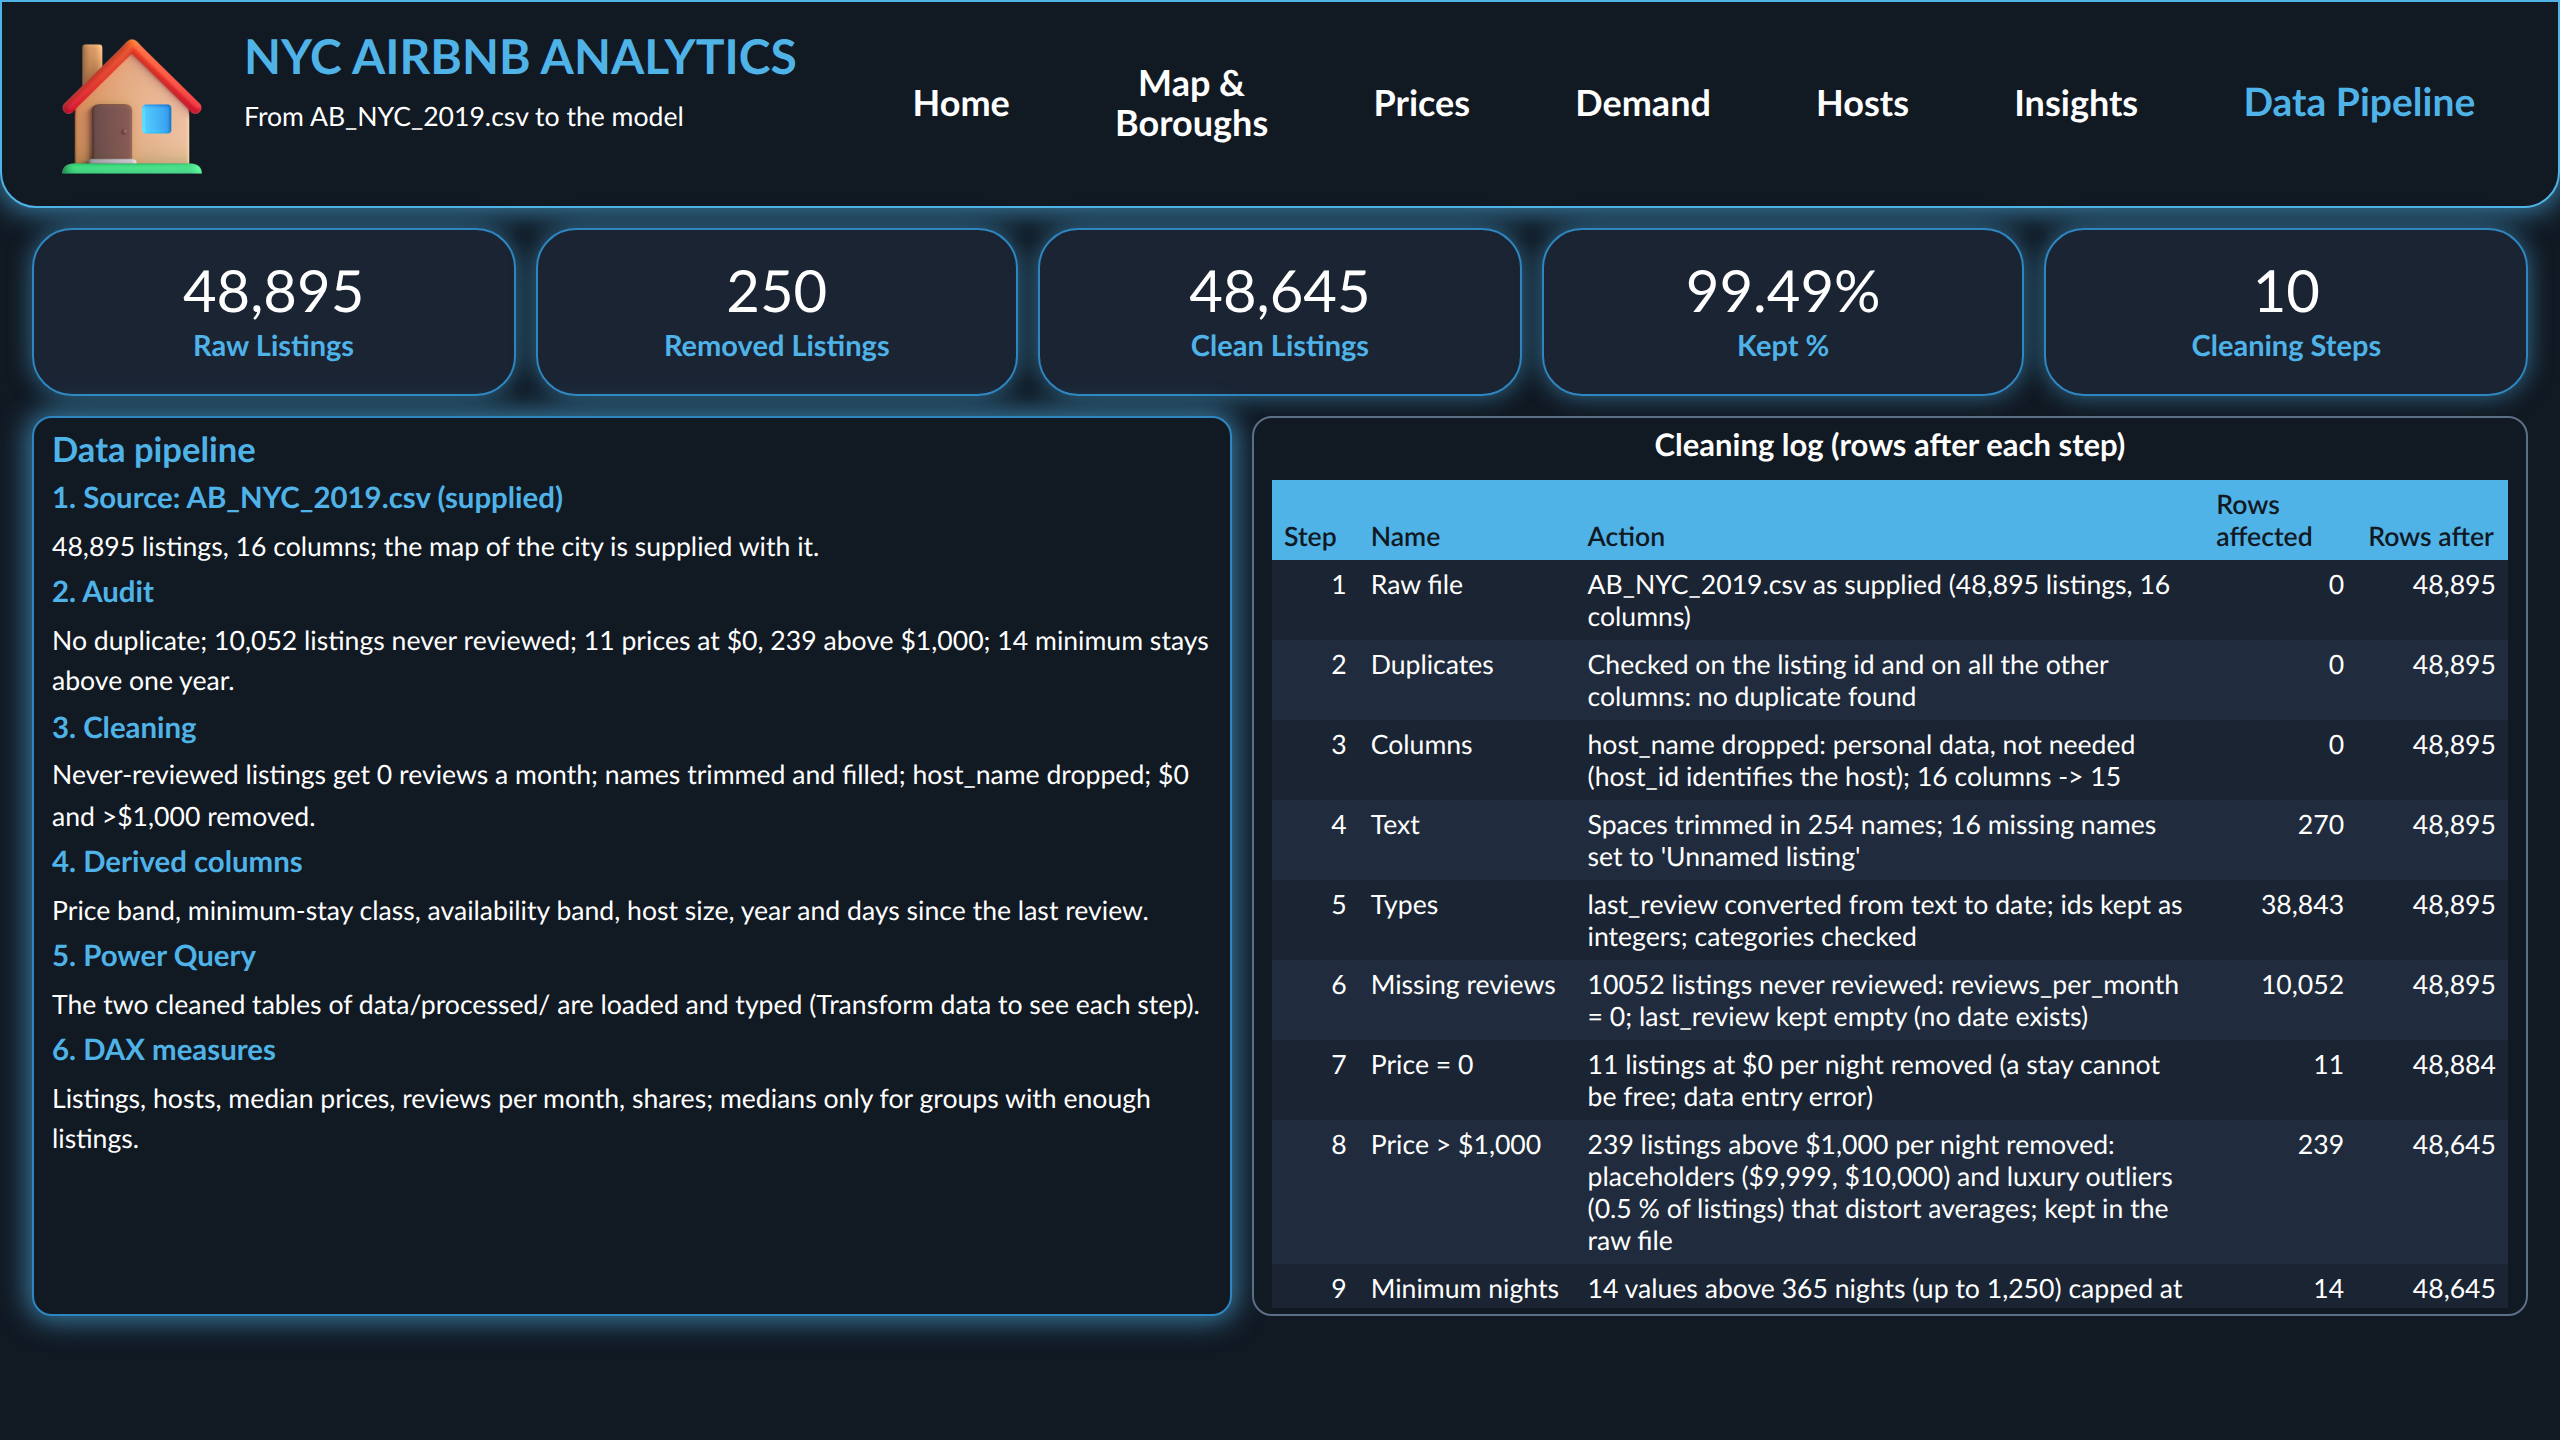

The dashboard page shown, as its layout file describes it:
{"tool":"powerbi","page":{"name":"Data Pipeline","canvas":[1280,720],"ordinal":6},"visuals":[{"type":"shape","box":[0,0,1280,104],"z":1000},{"type":"image","box":[18,12,96,80],"z":2000},{"type":"textbox","box":[122,14,300,76],"z":3000},{"type":"pageNavigator","box":[416,16,848,64],"z":4000},{"type":"card","title":"Raw Listings","fields":{"Values":["Cleaning Log.Raw Listings"]},"box":[16,114,241.6,84],"z":5000},{"type":"card","title":"Removed Listings","fields":{"Values":["Cleaning Log.Removed Listings"]},"box":[267.6,114,241.6,84],"z":6000},{"type":"card","title":"Clean Listings","fields":{"Values":["Cleaning Log.Clean Listings"]},"box":[519.2,114,241.6,84],"z":7000},{"type":"card","title":"Kept %","fields":{"Values":["Cleaning Log.Kept %"]},"box":[770.8,114,241.6,84],"z":8000},{"type":"card","title":"Cleaning Steps","fields":{"Values":["Cleaning Log.Cleaning Steps"]},"box":[1022.4,114,241.6,84],"z":9000},{"type":"shape","box":[16,208,600,450],"z":10000},{"type":"textbox","box":[48,240,560,384],"z":11000},{"type":"shape","box":[626,208,638,450],"z":12000},{"type":"tableEx","title":"Cleaning log (rows after each step)","fields":{"Values":["Cleaning Log.Step","Cleaning Log.Name","Cleaning Log.Action","Cleaning Log.Rows Affected","Cleaning Log.Rows After"]},"box":[630,212,630,442],"z":13000}]}

Visuals, with their boxes in screenshot pixels (x1, y1, x2, y2), scaled from the page's 1280x720 canvas onto the 2560x1440 screenshot:
shape: 0 0 2559 208
image: 36 24 228 184
textbox: 244 28 844 180
pageNavigator: 832 32 2528 160
"Raw Listings" card: 32 228 515 396
"Removed Listings" card: 535 228 1018 396
"Clean Listings" card: 1038 228 1522 396
"Kept %" card: 1542 228 2025 396
"Cleaning Steps" card: 2045 228 2528 396
shape: 32 416 1232 1316
textbox: 96 480 1216 1248
shape: 1252 416 2528 1316
"Cleaning log (rows after each step)" tableEx: 1260 424 2520 1308
